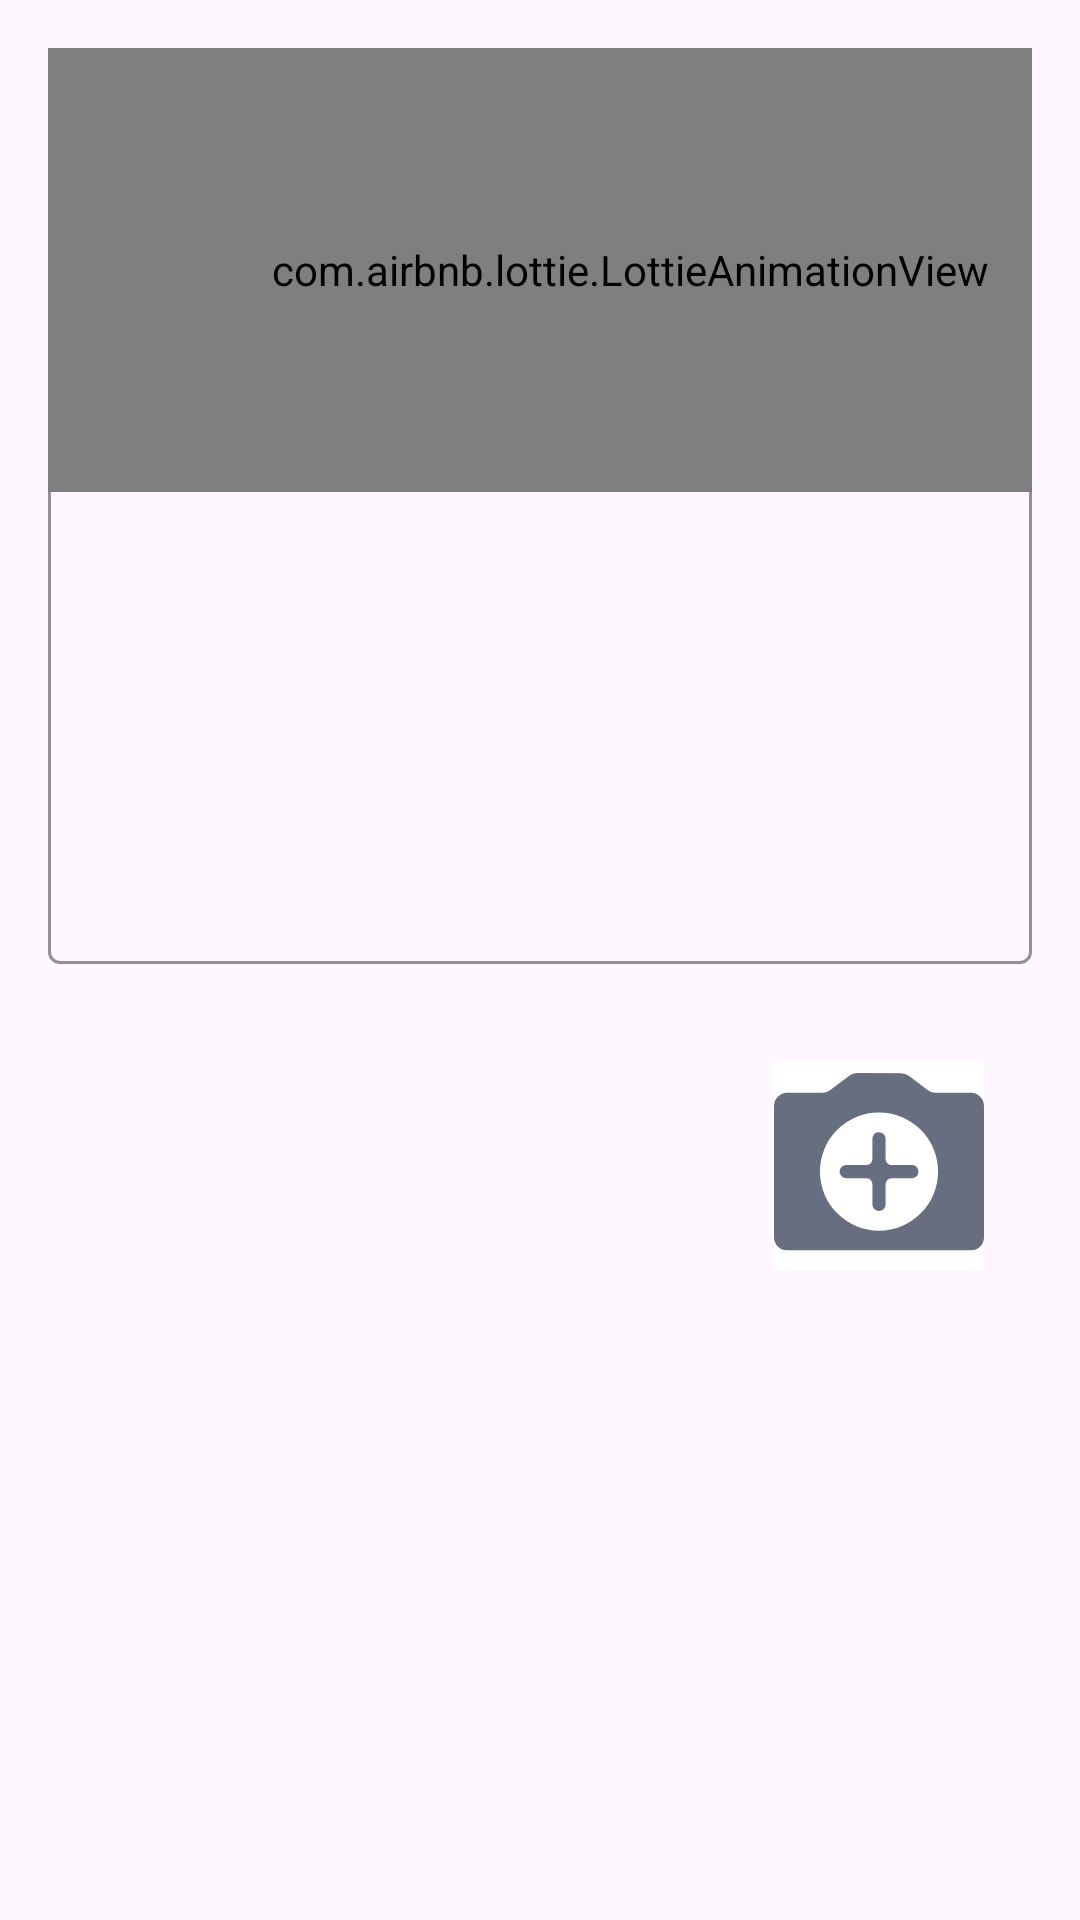

Locate icon controls on the screen. Image size 1080×1920, boxes as (x1, y1, x2, y2).
添加图片: (774, 1073, 984, 1251)
